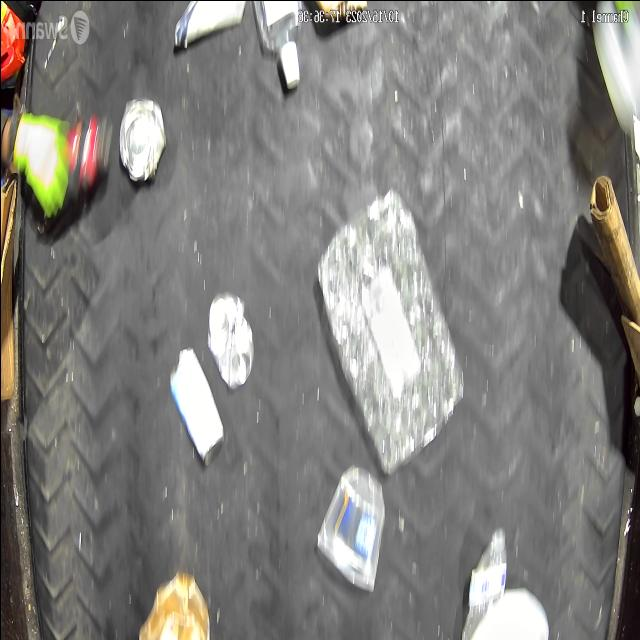can: (197, 286, 249, 382), (116, 99, 172, 177)
plastic_bottle: (306, 190, 462, 465)
